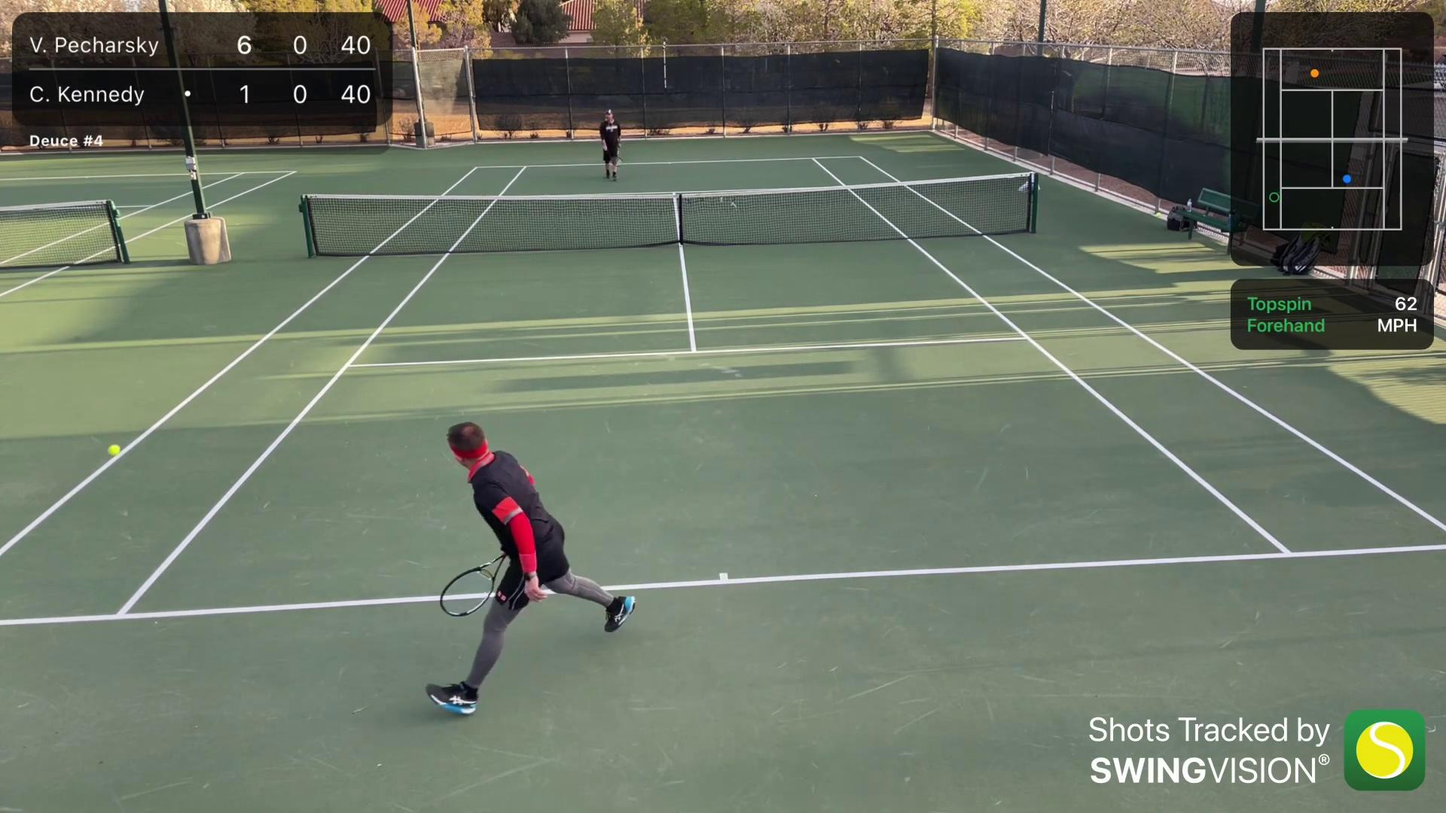ball: (107, 444, 121, 457)
